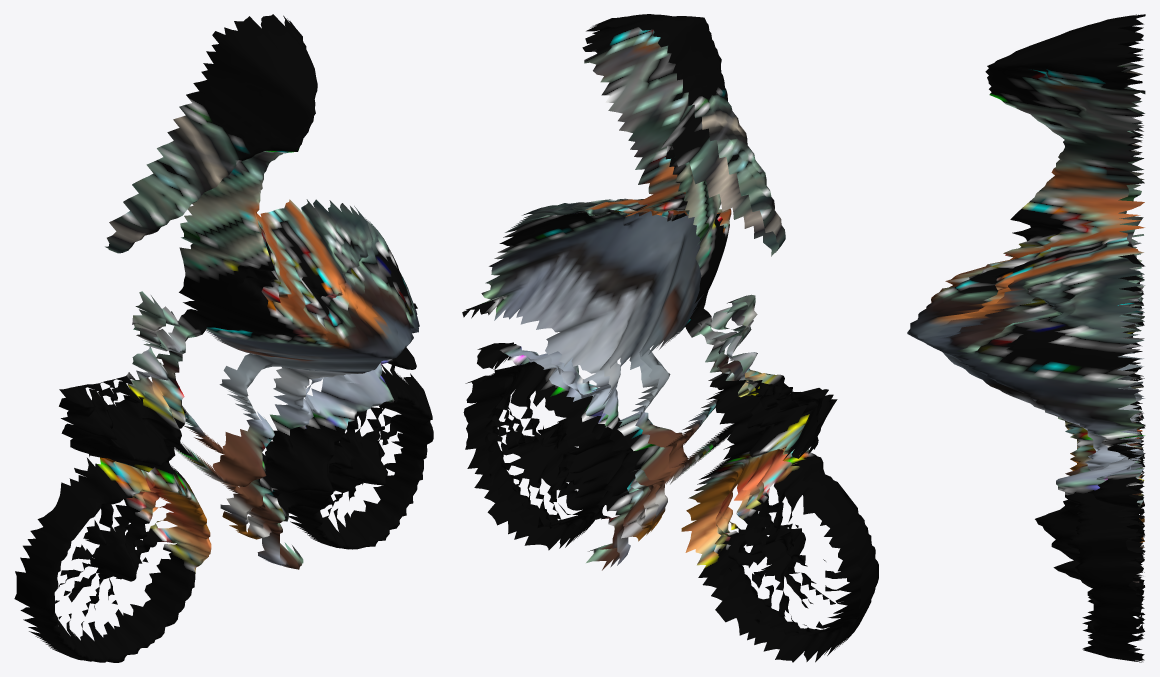
Rendered from pelican.glb.
3 views of the same model, side by side, from view 1: azimuth 30°, elevation 25°; view 2: azimuth 150°, elevation 25°; view 3: azimuth 270°, elevation 25° (orthographic). The views are drawn at different scales.
Visible parts, largest first — view 1: PelicanRelief; view 2: PelicanRelief; view 3: PelicanRelief.
Boxes of the visible parts, x1,y1,x2,y2 form: PelicanRelief: [14, 14, 433, 662]; PelicanRelief: [462, 14, 878, 662]; PelicanRelief: [907, 14, 1145, 662].
Size of the model in its own units: 1.12 by 1.6 by 0.5394.
Materials: 1 (1 with a texture image).
